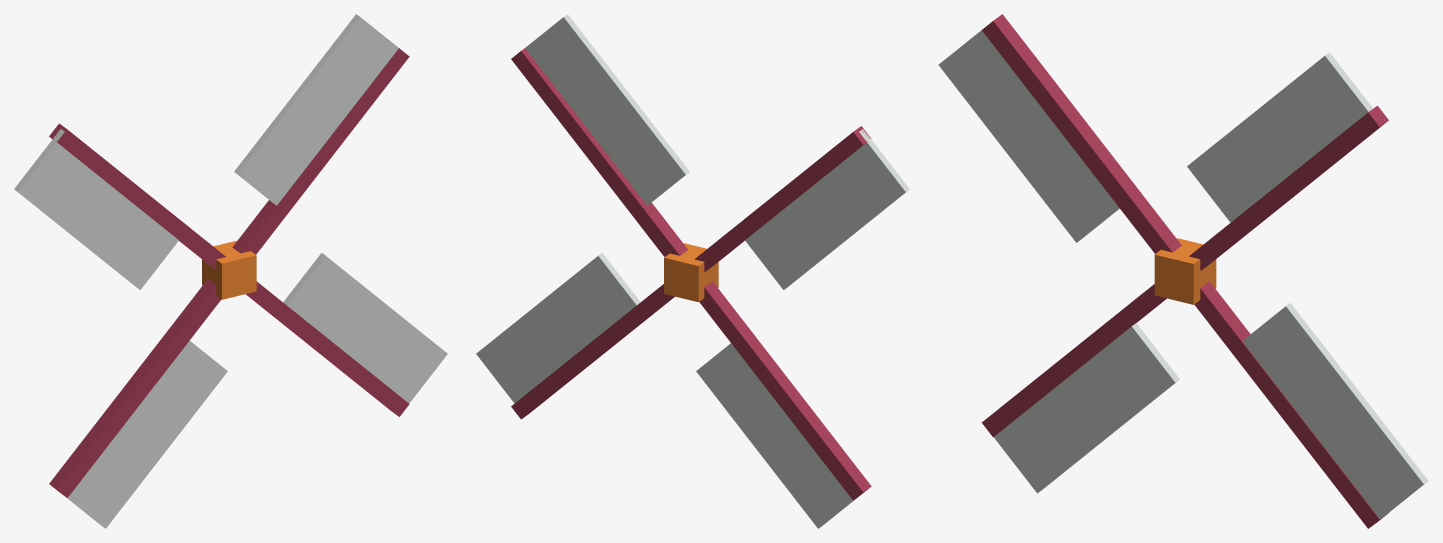
The model's file is sails.glb.
3 views of the same model, side by side, from view 1: azimuth 30°, elevation 25°; view 2: azimuth 150°, elevation 25°; view 3: azimuth 330°, elevation 25° (orthographic). The views are drawn at different scales.
Parts seen in each view (by area): view 1: Sails; view 2: Sails; view 3: Sails.
Part boxes in pixels (x1,y1,x2,y2): Sails: [14, 14, 447, 528]; Sails: [476, 14, 909, 528]; Sails: [938, 14, 1428, 528].
Bounding box in the file's own units: 2.98 × 2.98 × 0.24.
